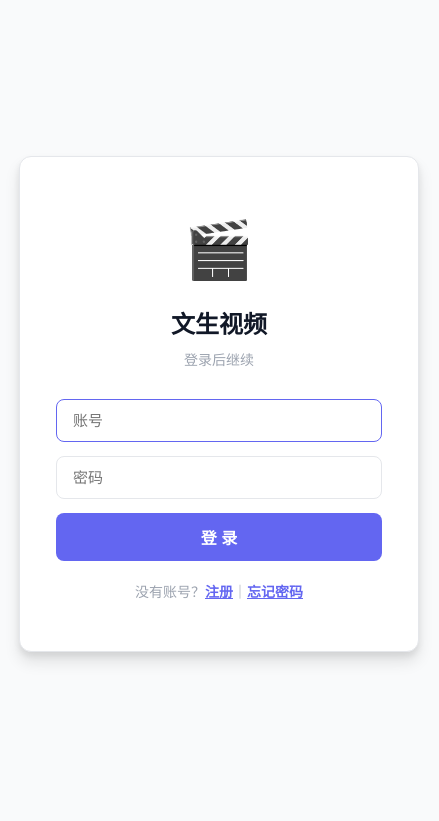
Scenario: 表单验证 › 注册密码少于 6 位
Click the button "注册". click: (219, 591)
box: [205,581,233,601]
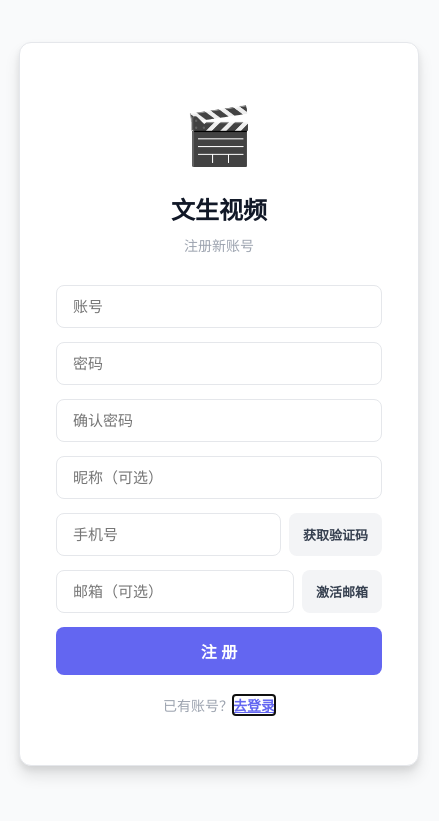
Type "testuser" into the field with placeholder "账号". click: (219, 306)
box: [56,285,382,328]
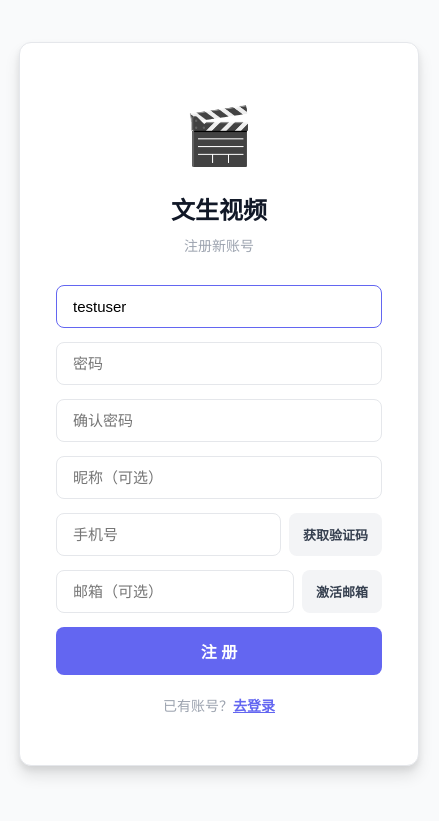
Type "123" into the password field with placeholder "密码". click: (219, 364)
box: [56,342,382,385]
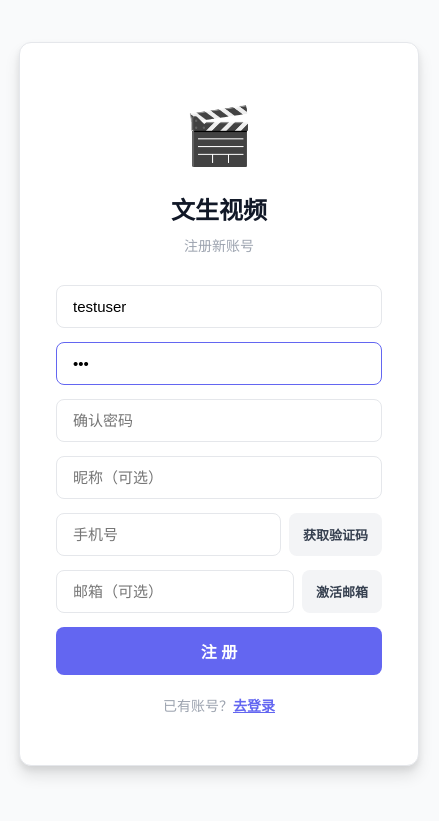
Type "123" into the password field with placeholder "确认密码". click: (219, 420)
box: [56,399,382,442]
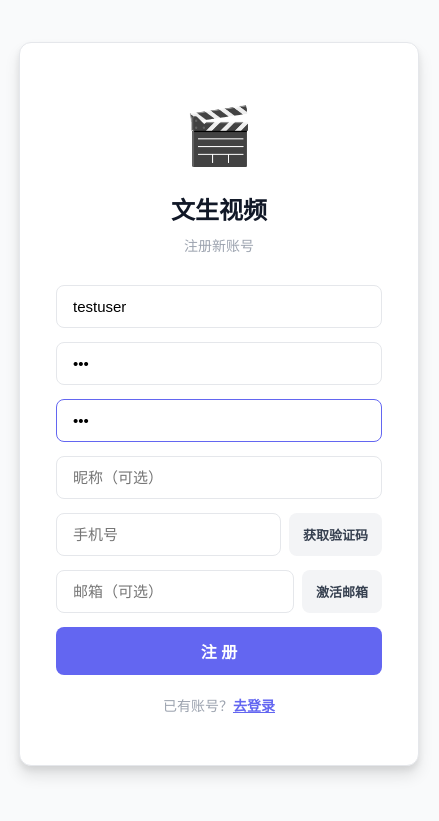
Click the button "注 册". click: (219, 651)
box: [56,627,382,675]
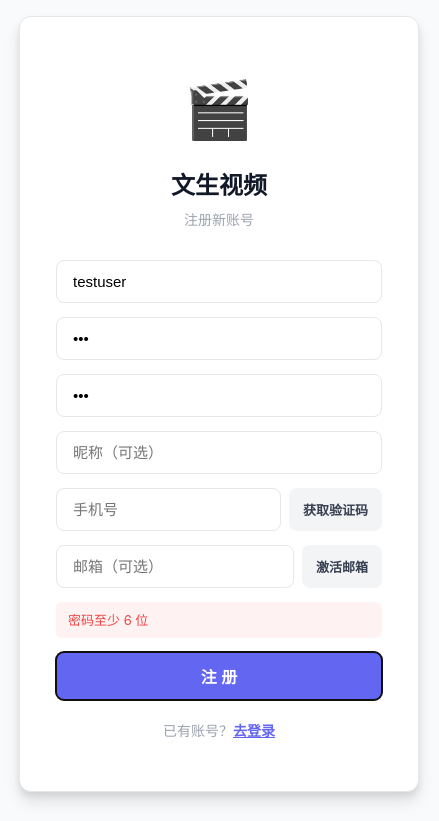
Result: the text "密码至少 6 位" is shown at [56,602,382,638]
